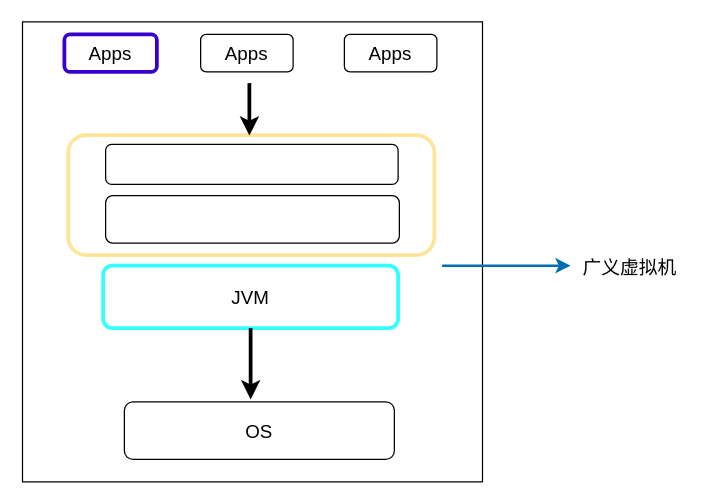
This 703x504 diagram has some shape labels left out. Each missing label, with the centre of its shape:
"API" belongs at (x=251, y=163).
"KNI" belongs at (x=251, y=218).
